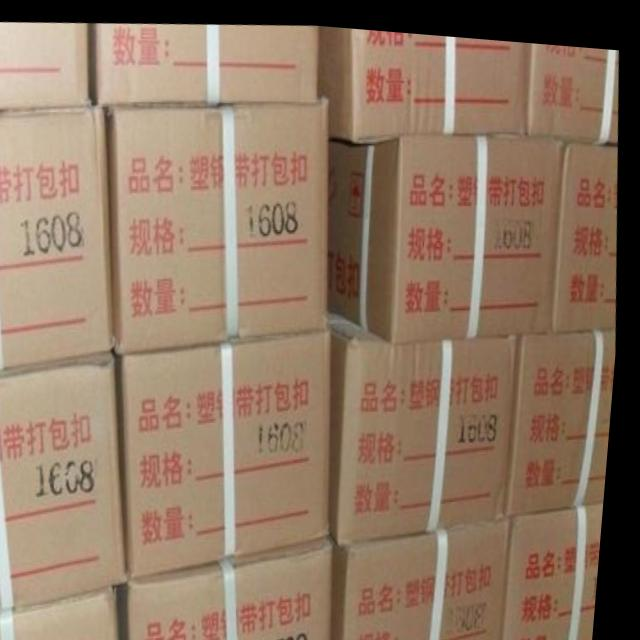box: (106, 92, 334, 348), (121, 323, 337, 575), (330, 123, 566, 336), (334, 303, 520, 538), (0, 350, 137, 616), (0, 104, 121, 374), (318, 20, 526, 137), (341, 507, 517, 640), (135, 531, 341, 640), (514, 317, 619, 506), (89, 21, 318, 103), (510, 490, 611, 640), (557, 131, 619, 321), (526, 34, 617, 132), (0, 22, 90, 109), (0, 583, 129, 640)
